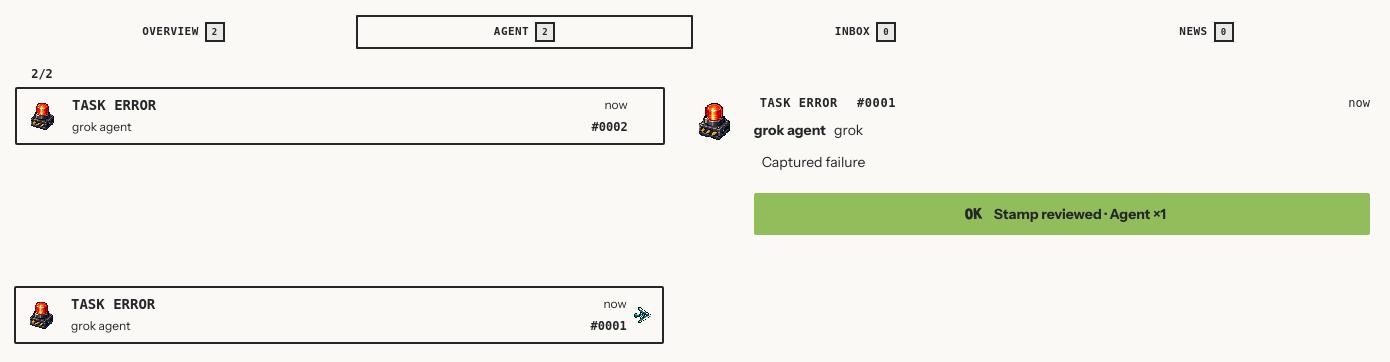
it: OfficeRuntimeSection › pins a captured duty record and hides its receipt on a newer selection
The image size is (1390, 362).
Check: the button "OK Stamp reviewed · Agent ×1" is shown, box [754,193,1370,235]
Click the button "Task error now grok agent #0002" at (43, 116), box [15,87,665,145]
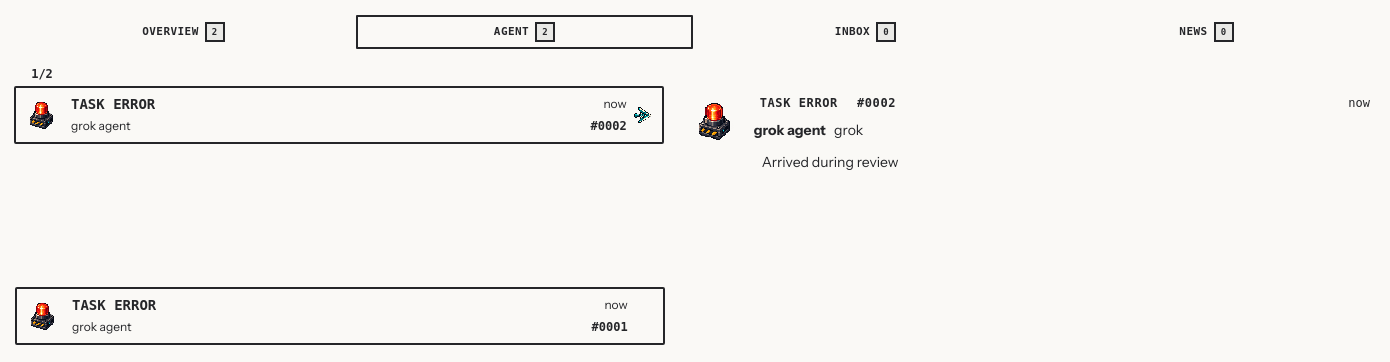
Check: the button "Stamp reviewed" is gone
